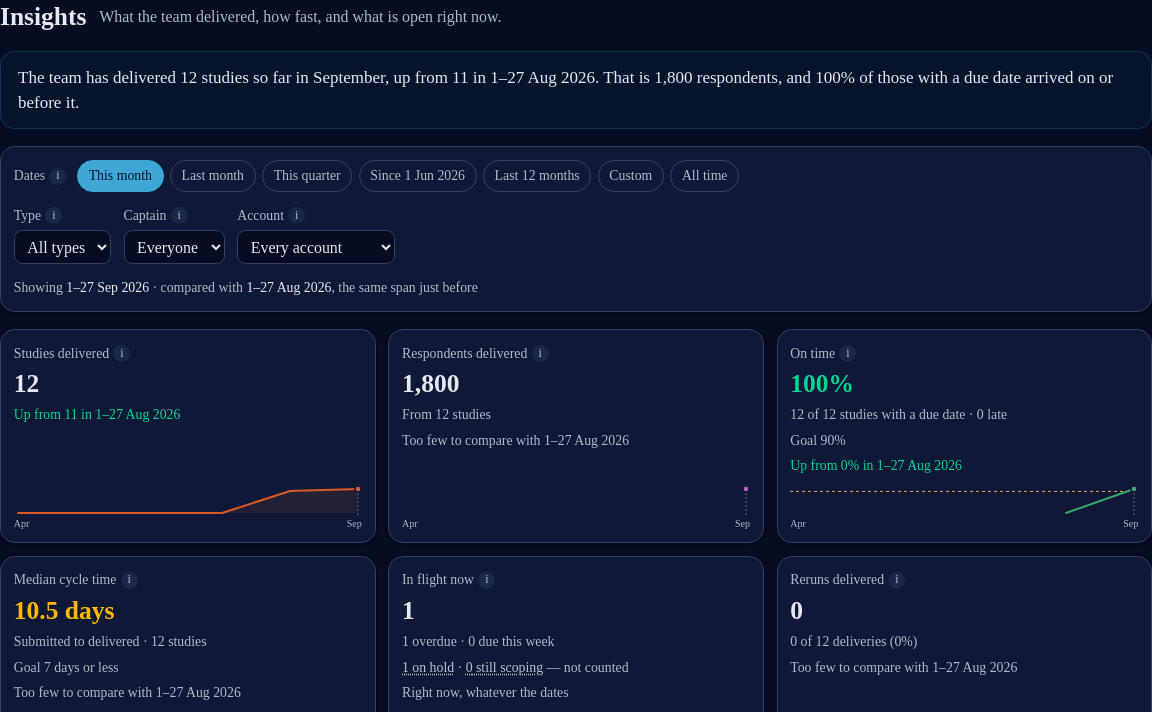
Scenario: InsightsDashboard › the on-hold count opens the surveys on hold
Click the button "1 on hold" at (428, 667), box [402,657,454,678]
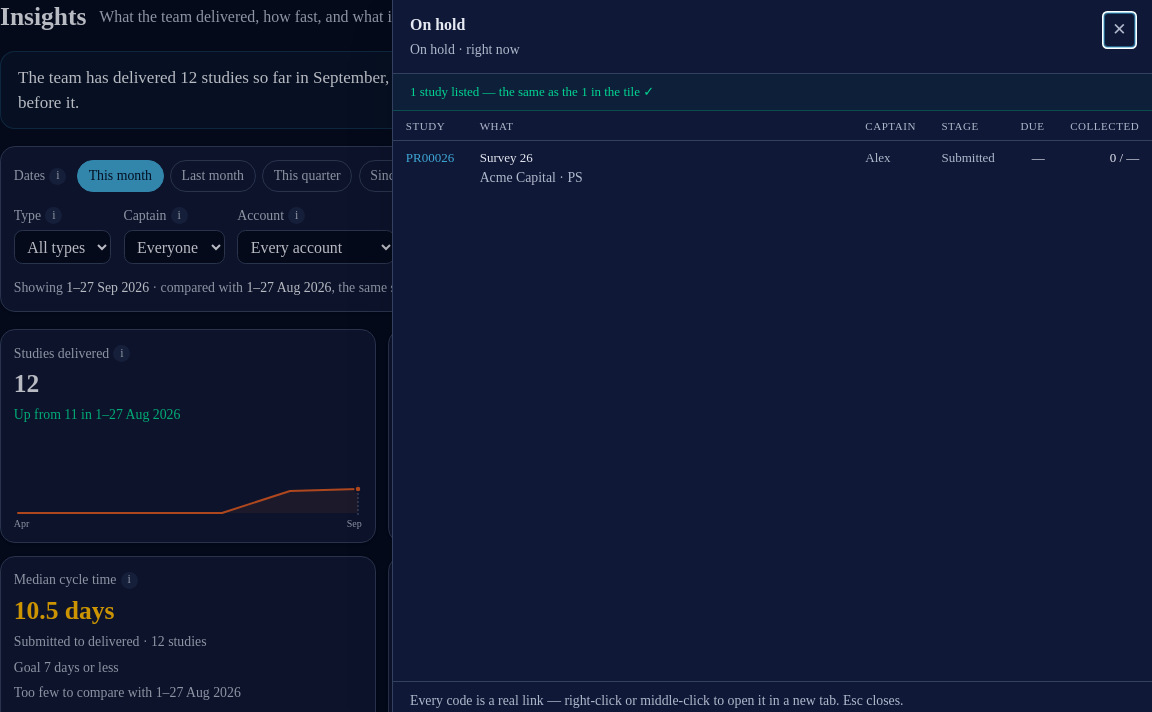
Now the text "1 study listed — the same as the 1 in the tile ✓" is shown, box [393,74,1151,111]
